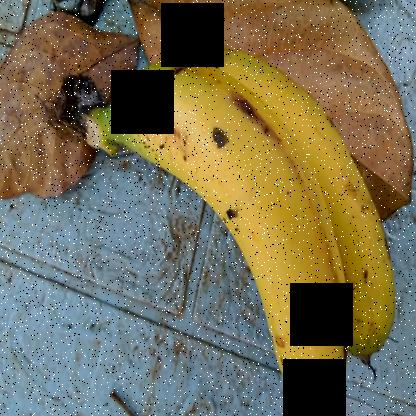ripe: (118, 55, 355, 416)
